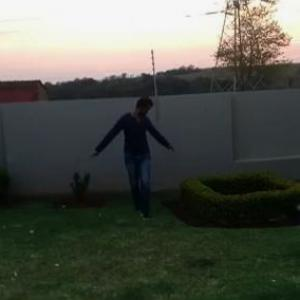land: (87, 94, 184, 227)
